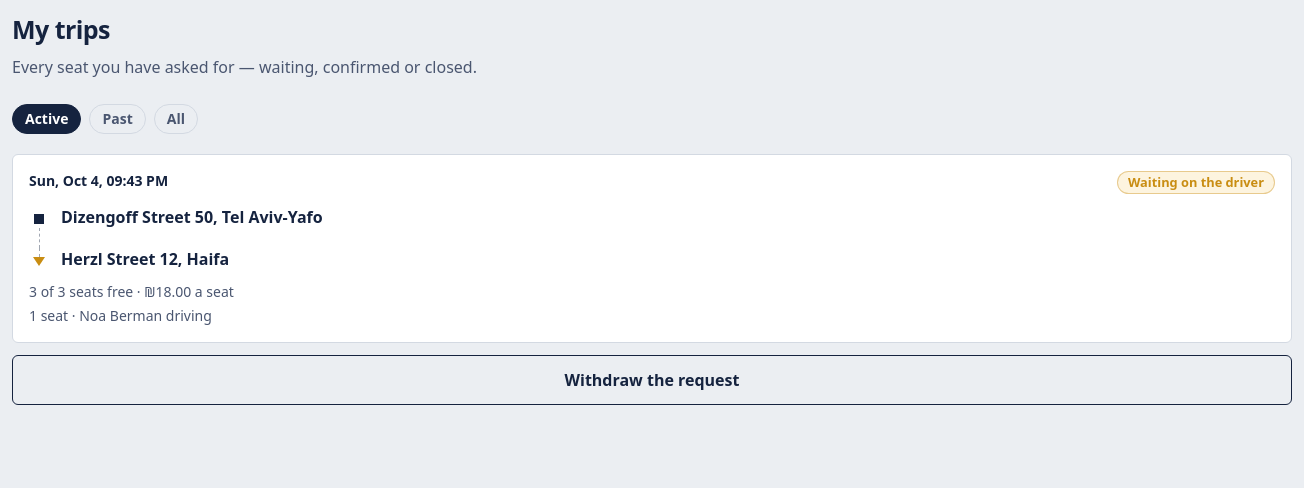
Test: My trips › withdraws a pending request from the list
Click the button "Withdraw the request" at (652, 380), box 12,355 -> 1292,405
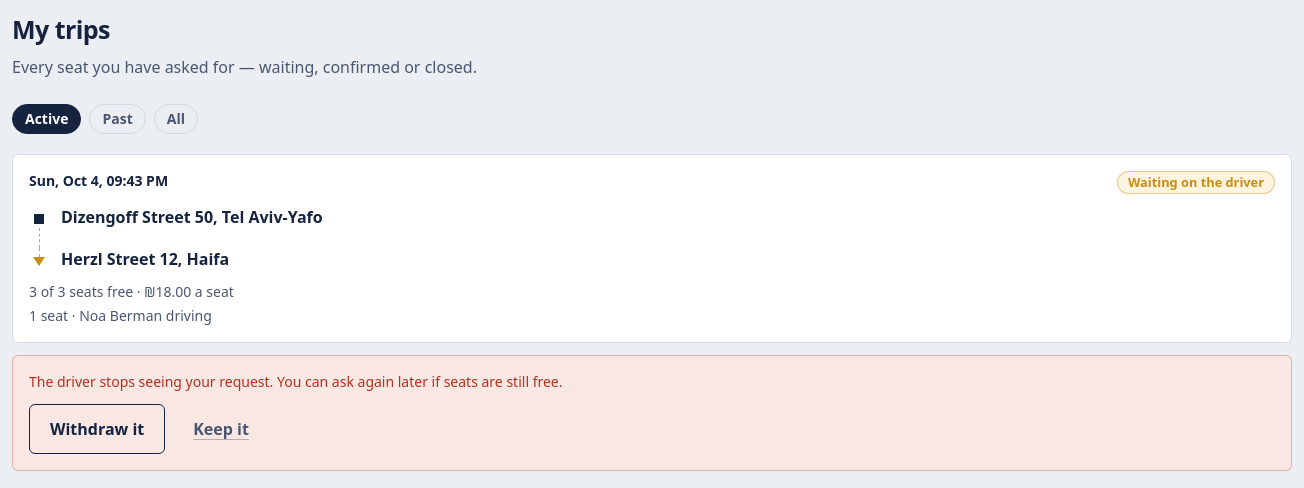
Click the button "Withdraw it" at (97, 429), box 29,404 -> 165,454
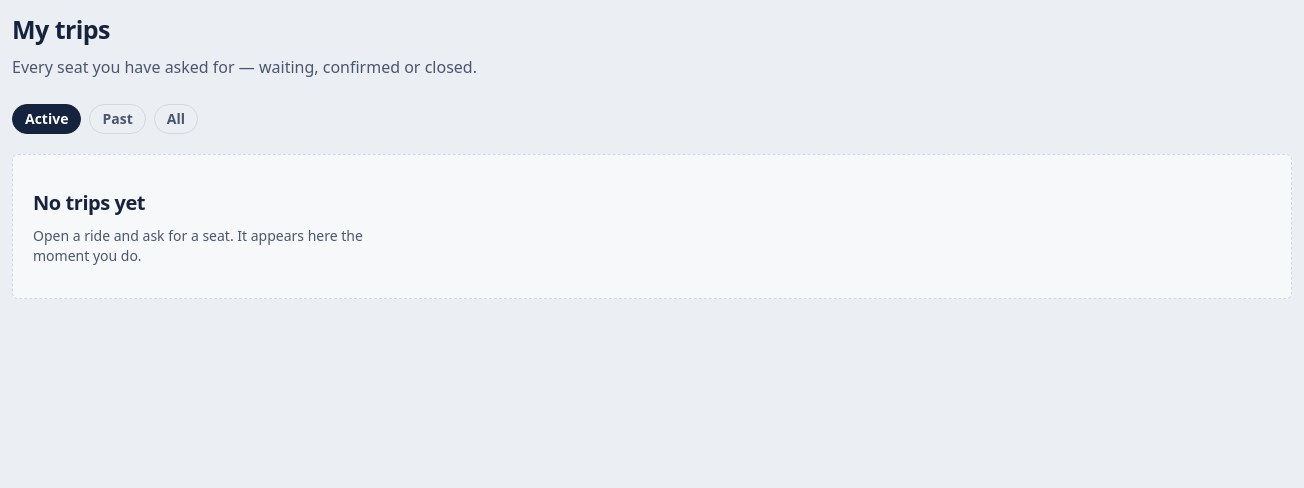
Expected: the heading "No trips yet" is shown, 33,189 -> 145,216
